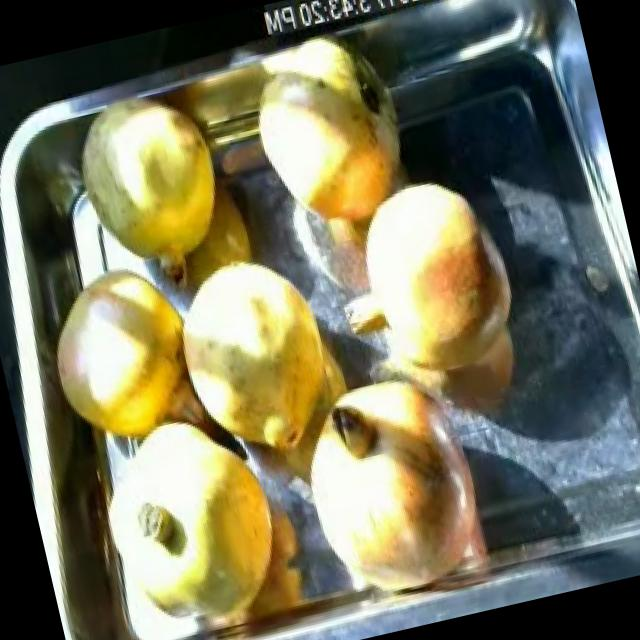fruit: (270, 344, 508, 614), (147, 224, 368, 486), (89, 383, 306, 640), (320, 156, 538, 408), (226, 20, 428, 255), (55, 78, 246, 312), (28, 246, 220, 474)
